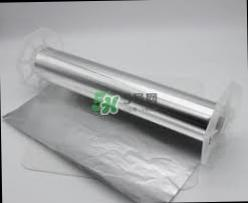metal: (17, 27, 232, 160)
